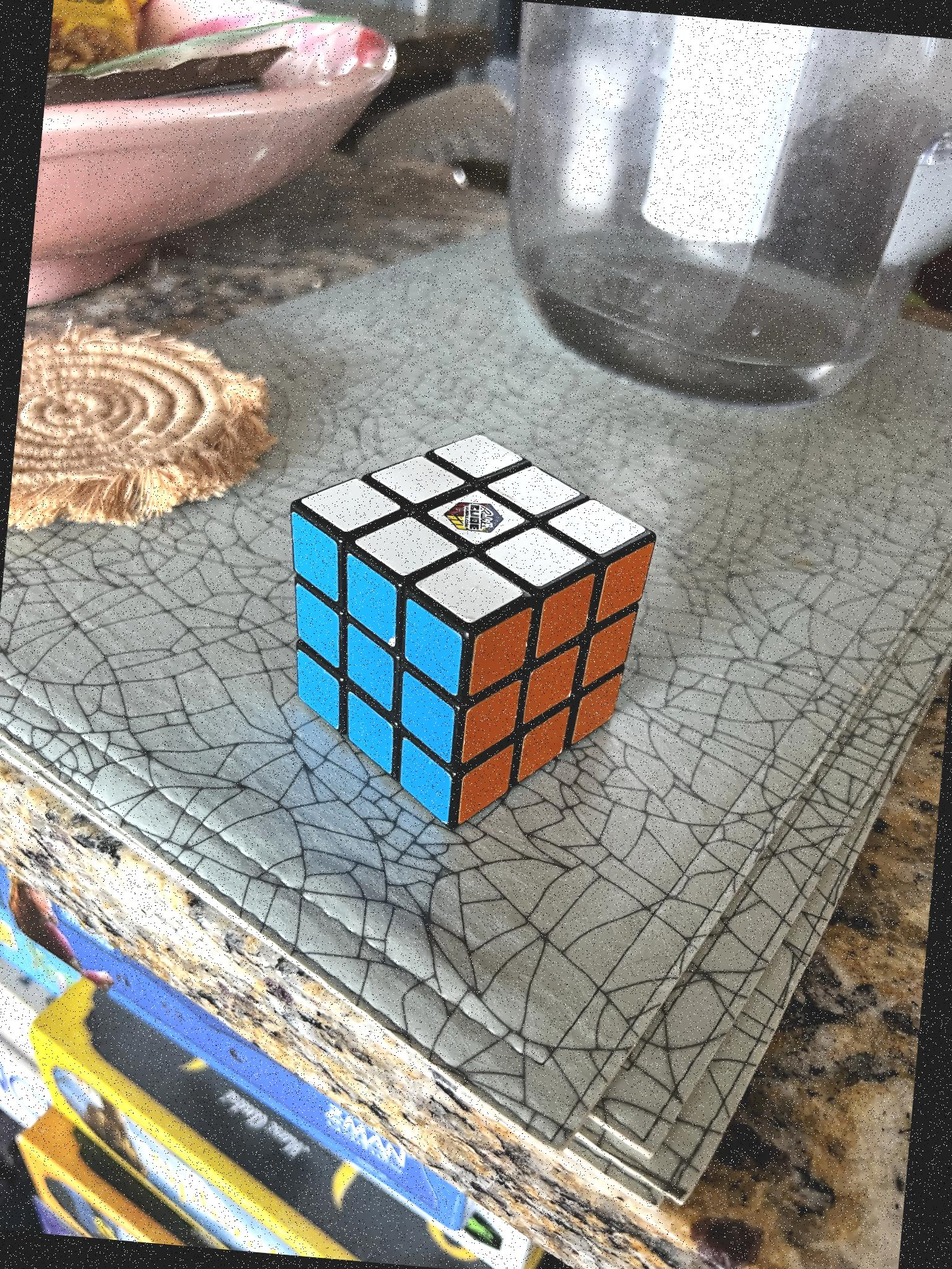rubiks_cube: (291, 435, 653, 823)
